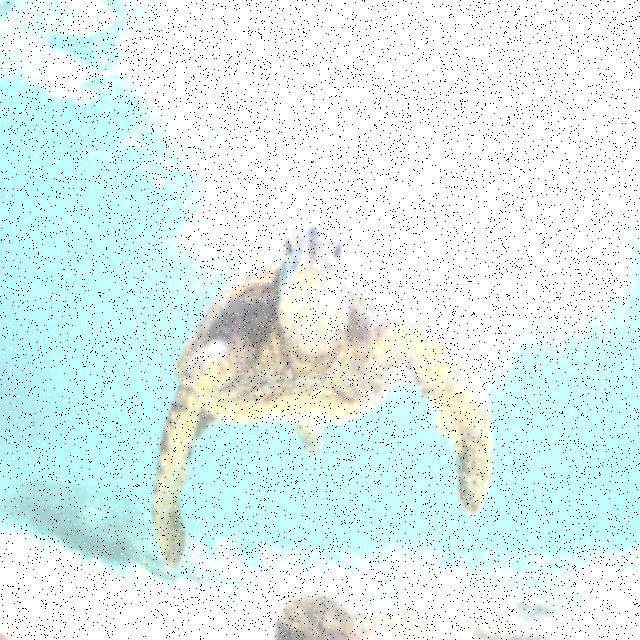tortoise: (152, 224, 522, 574)
